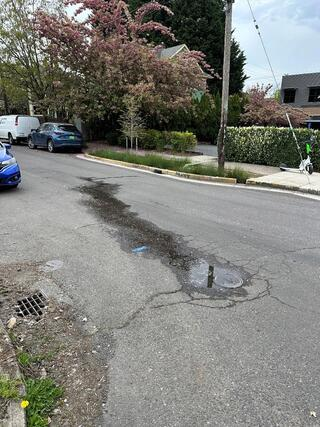water_leak: (70, 173, 252, 301)
